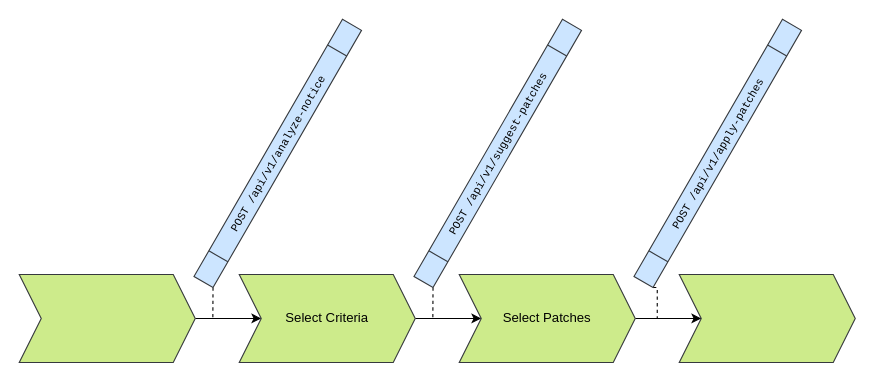
Image size: 875x383. Some labels were removed from this diagram. The centre of each missing label's shape, as x and y in pixels:
"Review & Download" belongs at point 766,317.
"Upload Notice" belongs at point 106,317.
